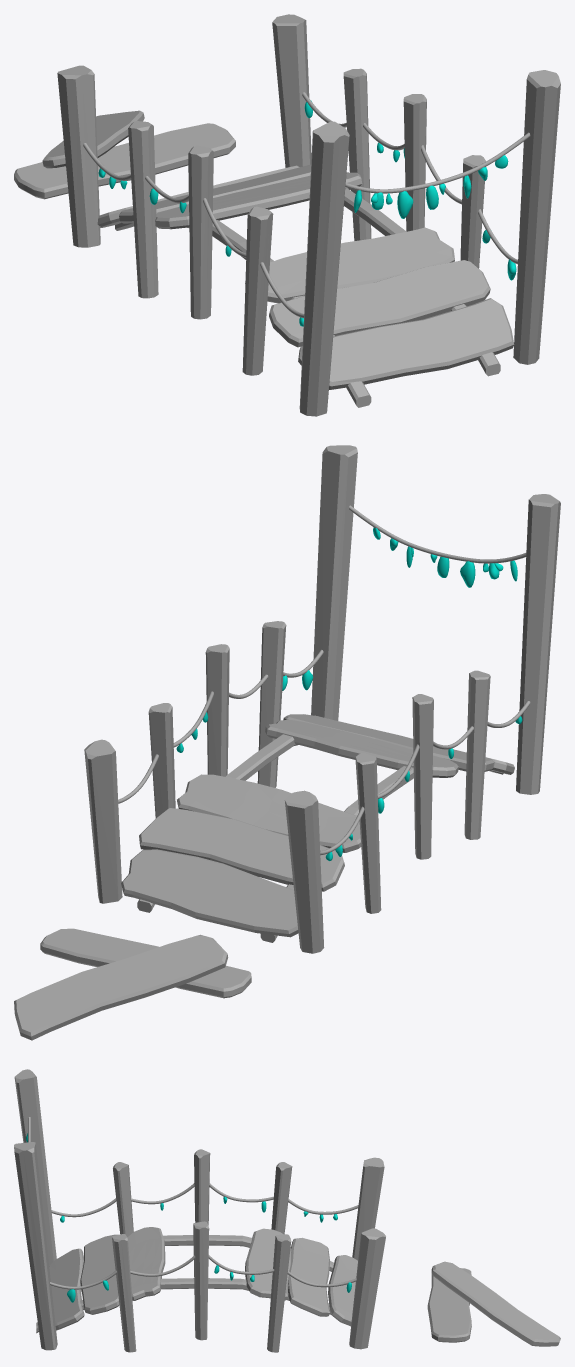
The model's file is Broken_Bridge_Untextured.fbx.
3 views of the same model, one above another, from view 1: azimuth 30°, elevation 25°; view 2: azimuth 150°, elevation 25°; view 3: azimuth 270°, elevation 25° (orthographic). The views are drawn at different scales.
Visible parts, largest first — view 1: bridge_broken, planks1, glow_rocks_bridge_broken; view 2: bridge_broken, planks1, glow_rocks_bridge_broken; view 3: bridge_broken, planks1, glow_rocks_bridge_broken.
Part boxes in pixels (x1,y1,x2,y2): bridge_broken: (57, 14, 560, 416); planks1: (14, 110, 235, 199); glow_rocks_bridge_broken: (98, 100, 516, 326); bridge_broken: (84, 445, 560, 953); planks1: (14, 928, 251, 1040); glow_rocks_bridge_broken: (176, 527, 522, 861); bridge_broken: (14, 1069, 385, 1352); planks1: (427, 1261, 560, 1346); glow_rocks_bridge_broken: (26, 1133, 351, 1302).
Bounding box in the file's own units: 203 × 256 × 576.
